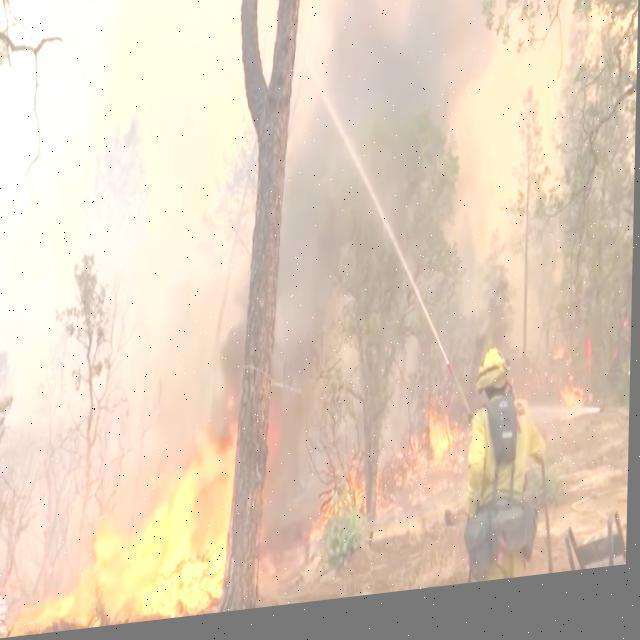Fire: (15, 421, 244, 634), (310, 406, 466, 564), (558, 380, 592, 444), (554, 351, 568, 374)
